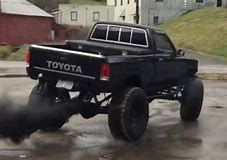smoke: (1, 94, 81, 143)
